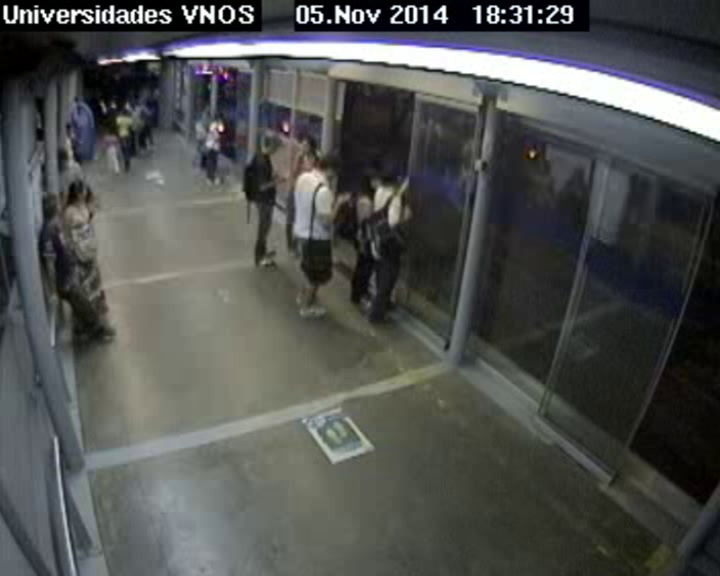person: (260, 128, 284, 154), (40, 194, 63, 220), (319, 155, 340, 178), (66, 180, 86, 204), (381, 170, 401, 191), (360, 172, 378, 193), (54, 149, 72, 169), (300, 136, 317, 153), (214, 110, 224, 120), (198, 110, 208, 120), (64, 124, 73, 135), (105, 126, 113, 134), (120, 108, 127, 116), (147, 89, 154, 96), (135, 97, 142, 104), (99, 99, 105, 106), (125, 99, 131, 106), (110, 100, 115, 105)
